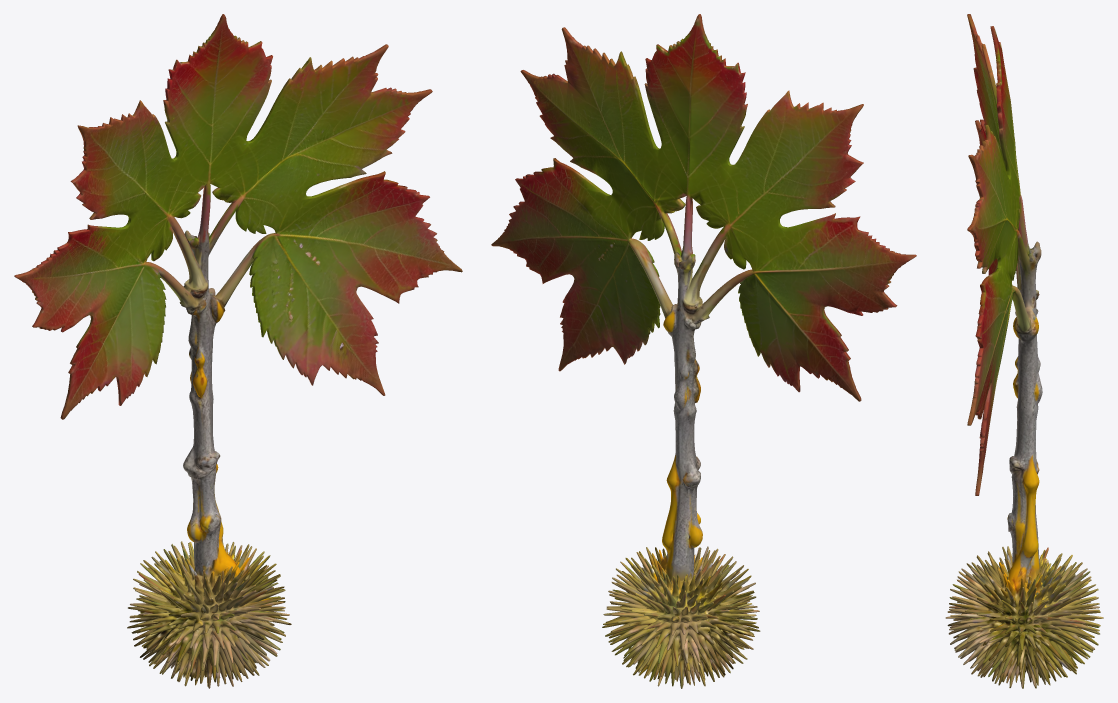
Rendered from fengxiangzhi.glb.
The picture shows the model from 3 angles, left to right: view 1: azimuth 30°, elevation 25°; view 2: azimuth 150°, elevation 25°; view 3: azimuth 270°, elevation 25°; orthographic projection. The views are drawn at different scales.
Visible parts, largest first — view 1: node_0; view 2: node_0; view 3: node_0.
Boxes of the visible parts, box(x1,y1,x2,y2) form: node_0: box(14, 14, 462, 688); node_0: box(491, 14, 916, 688); node_0: box(945, 14, 1103, 688).
Bounding box in the file's own units: 0.8245 × 1.19 × 0.264.
Materials: 1 (1 with a texture image).
